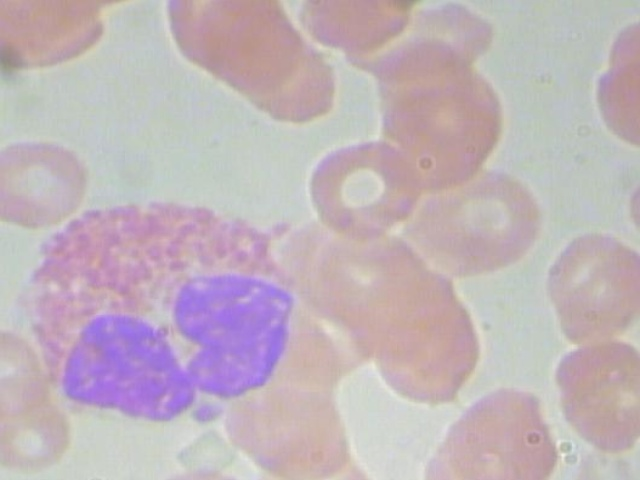RBC: (404, 164, 547, 275), (533, 333, 640, 456), (295, 140, 428, 238), (535, 331, 640, 454), (532, 229, 640, 327), (0, 136, 103, 234), (0, 371, 82, 470), (0, 321, 54, 419)
WBC: (8, 194, 304, 429)
